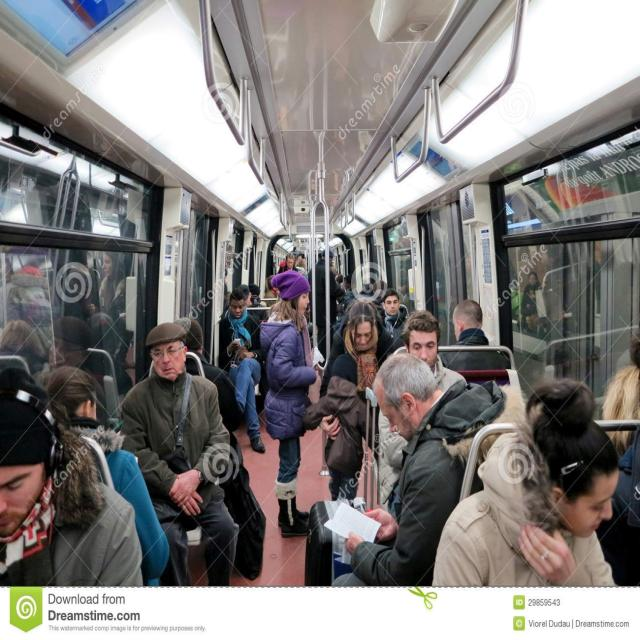body: (327, 346, 531, 640), (430, 376, 622, 587), (116, 320, 241, 612), (44, 366, 171, 586), (37, 364, 147, 587), (172, 316, 253, 582), (374, 307, 469, 528), (258, 268, 323, 543), (7, 247, 139, 367), (513, 247, 638, 359), (300, 354, 380, 501), (318, 298, 396, 442), (217, 288, 269, 456), (606, 367, 640, 581), (437, 299, 511, 370), (307, 245, 347, 372), (359, 245, 412, 292), (377, 288, 409, 352), (434, 256, 476, 300), (235, 282, 269, 324), (242, 274, 278, 307), (221, 245, 233, 292), (276, 251, 299, 275), (293, 245, 311, 275), (332, 267, 344, 285), (334, 273, 345, 285)
